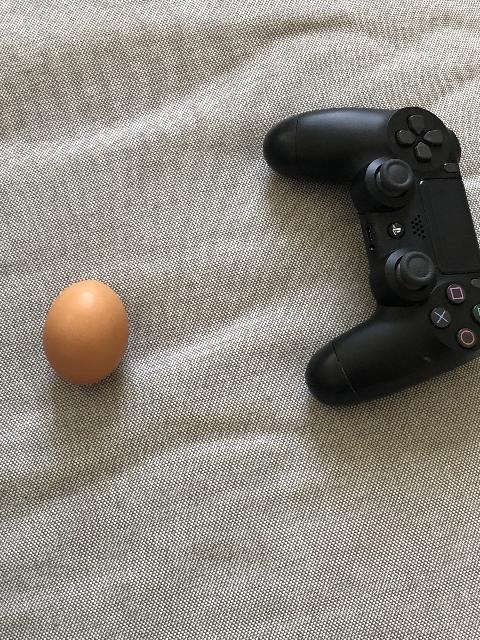Sano: (42, 278, 129, 386)
